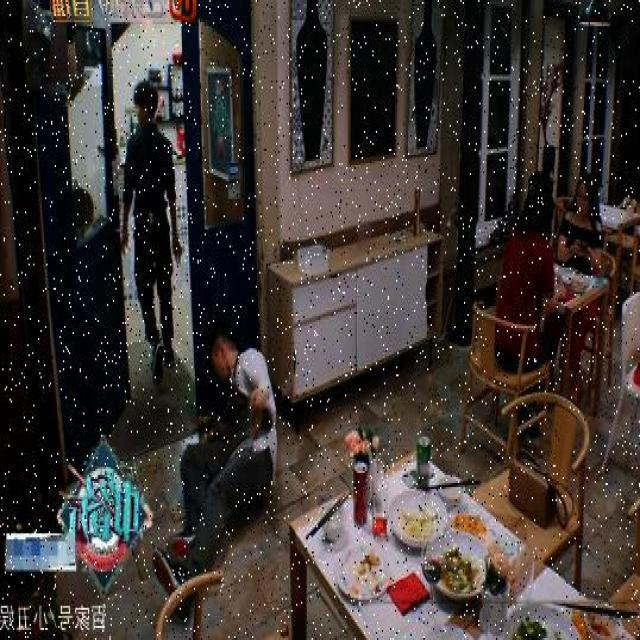fall: (150, 330, 284, 596)
